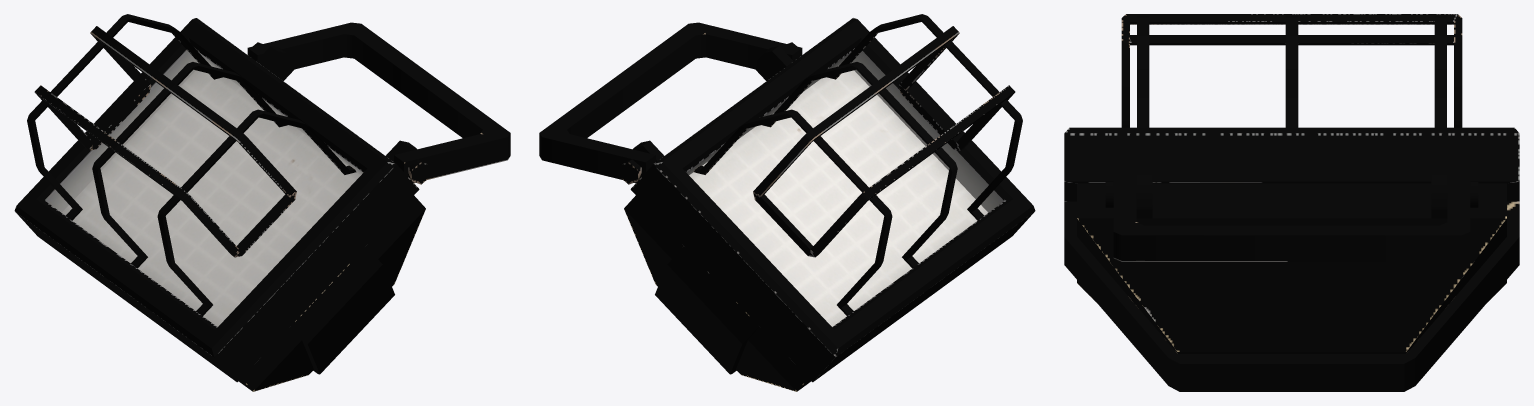
Rendered from props_hydro_construction_light.glb.
3 renders of one model, left to right at view 1: azimuth 30°, elevation 25°; view 2: azimuth 150°, elevation 25°; view 3: azimuth 270°, elevation 25°, orthographic. The views are drawn at different scales.
Parts seen in each view (by area): view 1: models/props_hydro/construction_light; view 2: models/props_hydro/construction_light; view 3: models/props_hydro/construction_light.
Part boxes in pixels (x1,y1,x2,y2): models/props_hydro/construction_light: (14, 14, 510, 391); models/props_hydro/construction_light: (539, 14, 1035, 391); models/props_hydro/construction_light: (1064, 14, 1519, 391).
Size of the model in its own units: 30.94 by 25.32 by 31.4.
Materials: 1 (1 with a texture image).
